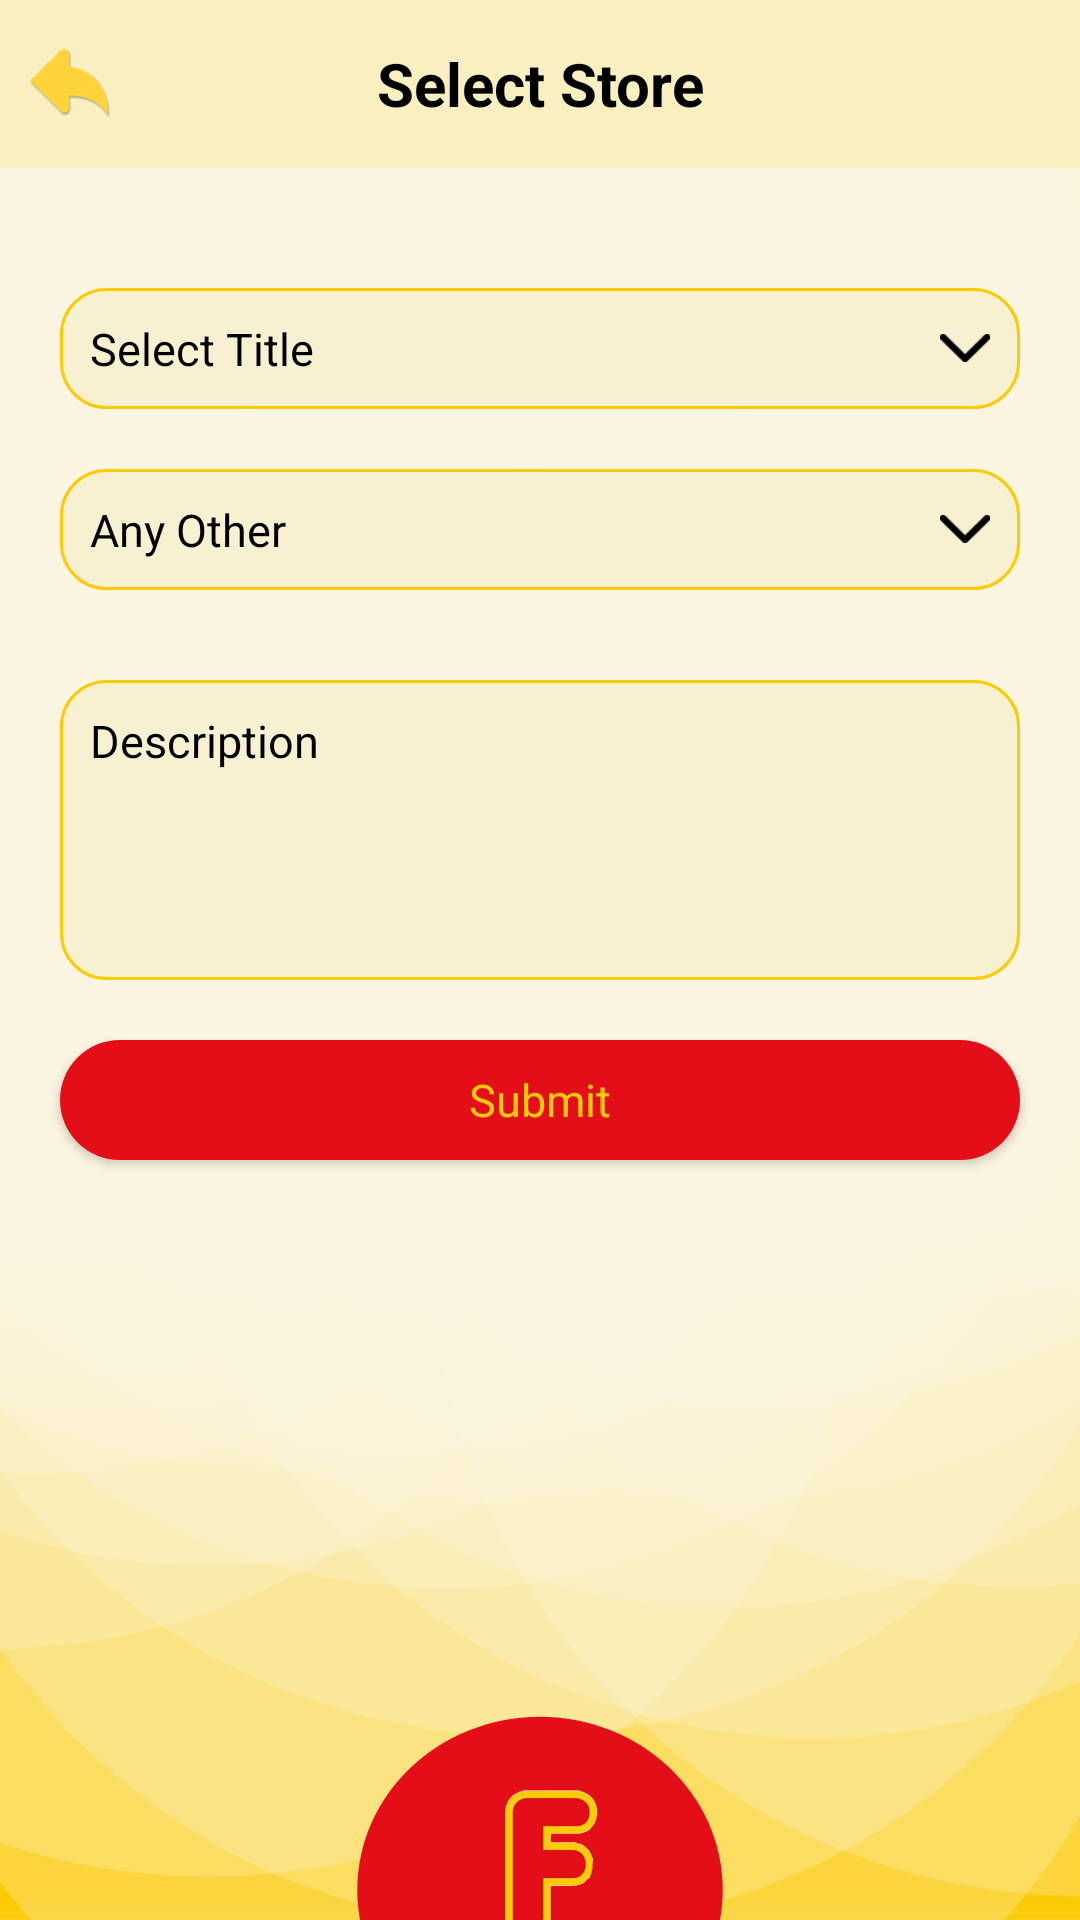

Point at icon controls on the screen. Image size 1080*1920, points as [x,y].
back: [69,82]
dropdown: [965,348], [965,529]
